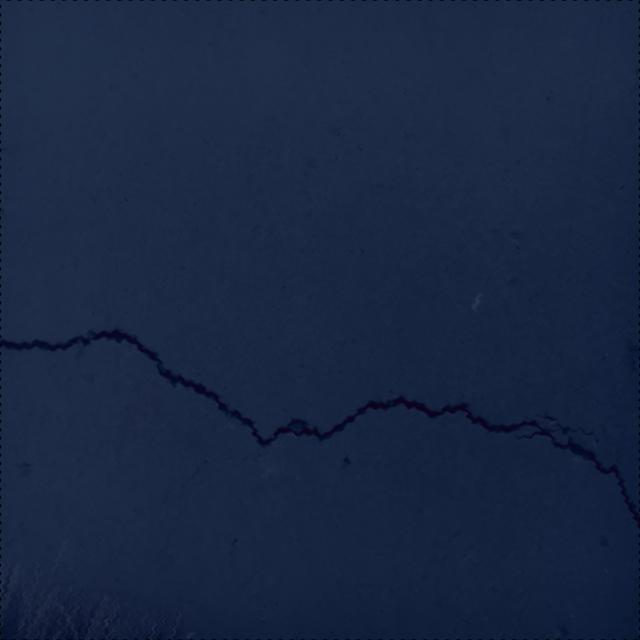crack: (0, 327, 640, 530), (176, 436, 208, 509)
